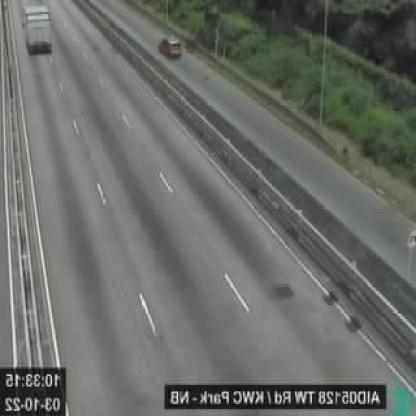Car: (161, 34, 183, 60)
Truck: (23, 0, 52, 52)
